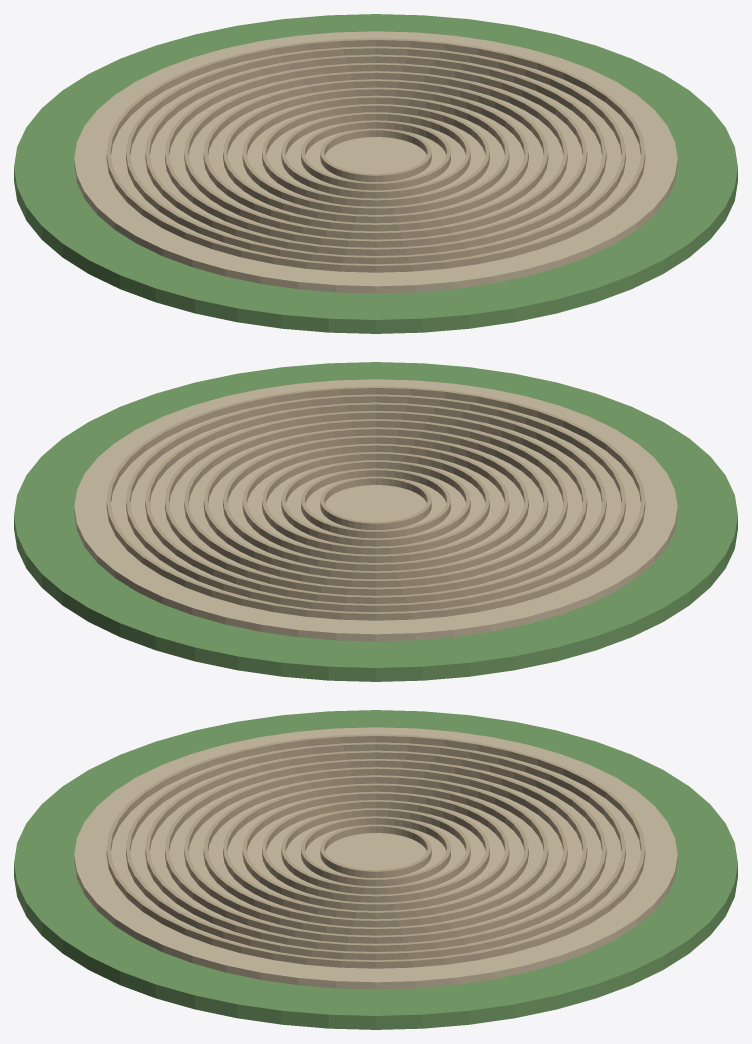
The model's file is sand-bunker.glb.
The picture shows the model from 3 angles, top to bottom: view 1: azimuth 30°, elevation 25°; view 2: azimuth 150°, elevation 25°; view 3: azimuth 270°, elevation 25°; orthographic projection.
Parts seen in each view (by area): view 1: world; view 2: world; view 3: world.
Boxes of the visible parts, left/top/right/bottom form: world: left=14, top=14, right=737, bottom=333; world: left=14, top=362, right=737, bottom=681; world: left=14, top=710, right=737, bottom=1029.
Size of the model in its own units: 1.08 by 0.0475 by 1.08.
